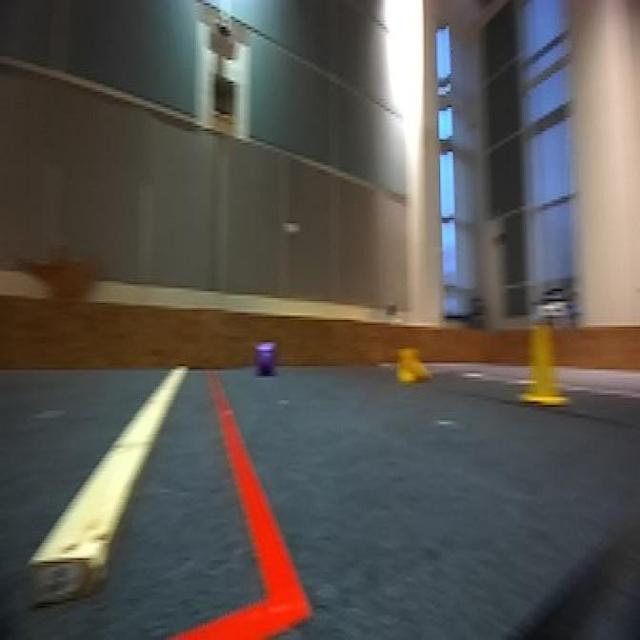frc_cone: (522, 316, 566, 408), (398, 346, 432, 384)
frc_cube: (255, 342, 275, 376)
